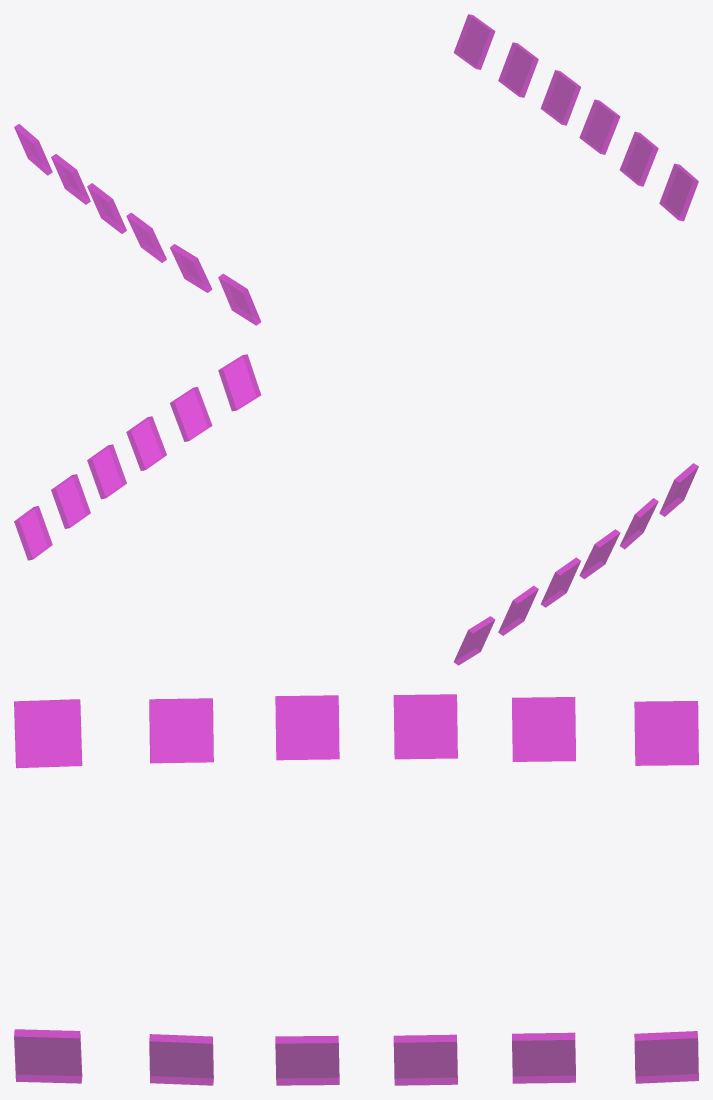
Rendered from SM_Veh_Ship_L_Cannon_Hatch_Open_02_Collision.fbx.
The picture shows the model from 3 angles, top to bottom: view 1: azimuth 30°, elevation 25°; view 2: azimuth 150°, elevation 25°; view 3: azimuth 270°, elevation 25°; orthographic projection. The views are drawn at different scales.
Visible parts, largest first — view 1: SM_Veh_Ship_L_Cannon_Hatch_Open_02_Collision; view 2: SM_Veh_Ship_L_Cannon_Hatch_Open_02_Collision; view 3: SM_Veh_Ship_L_Cannon_Hatch_Open_02_Collision.
Part boxes in pixels (x1,y1,x2,y2): SM_Veh_Ship_L_Cannon_Hatch_Open_02_Collision: (14, 14, 698, 325); SM_Veh_Ship_L_Cannon_Hatch_Open_02_Collision: (14, 354, 698, 665); SM_Veh_Ship_L_Cannon_Hatch_Open_02_Collision: (14, 694, 698, 1085).
Size of the model in its own units: 1331 by 107 by 1108.
